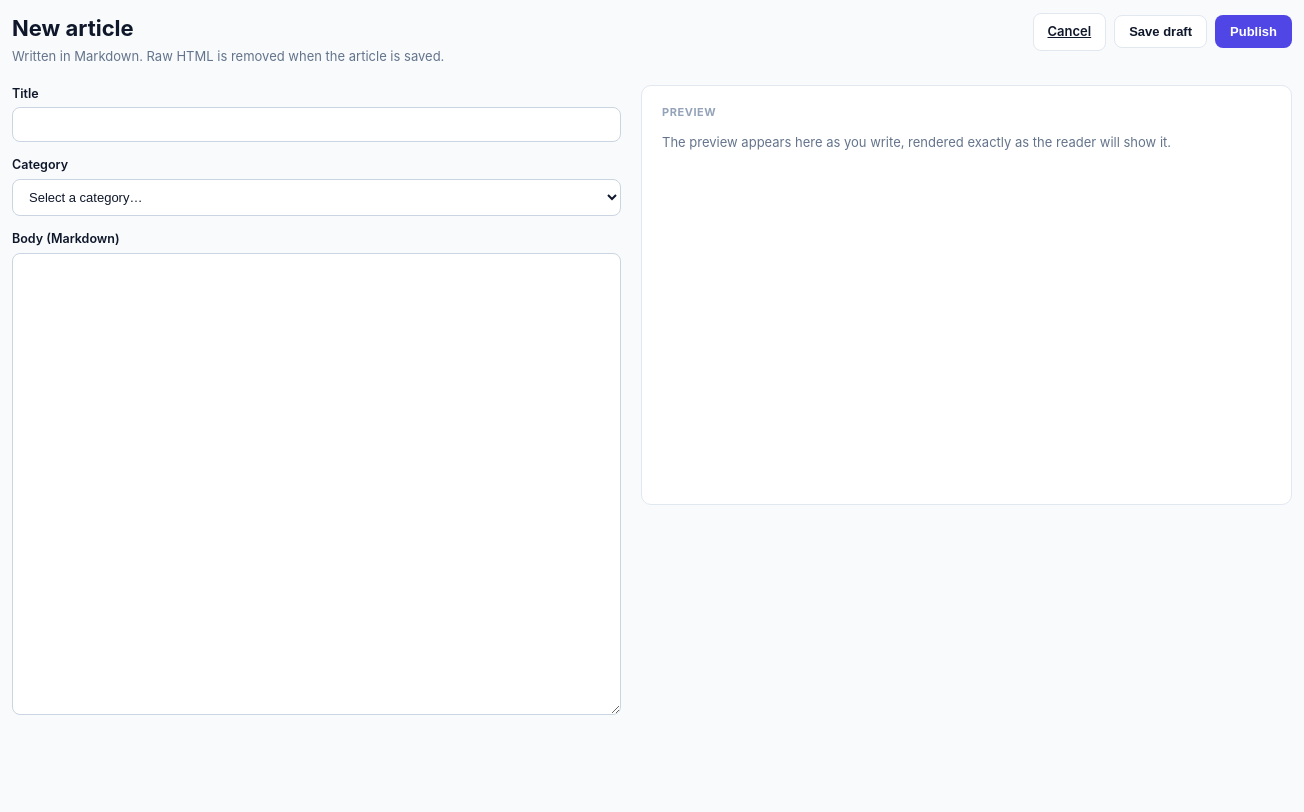
ArticleEditorPage › blocks Publish without a title
This screenshot has width=1304, height=812.
Type "A body." into the text box labelled "Body (Markdown)" at (316, 484), box [12,253,621,715]
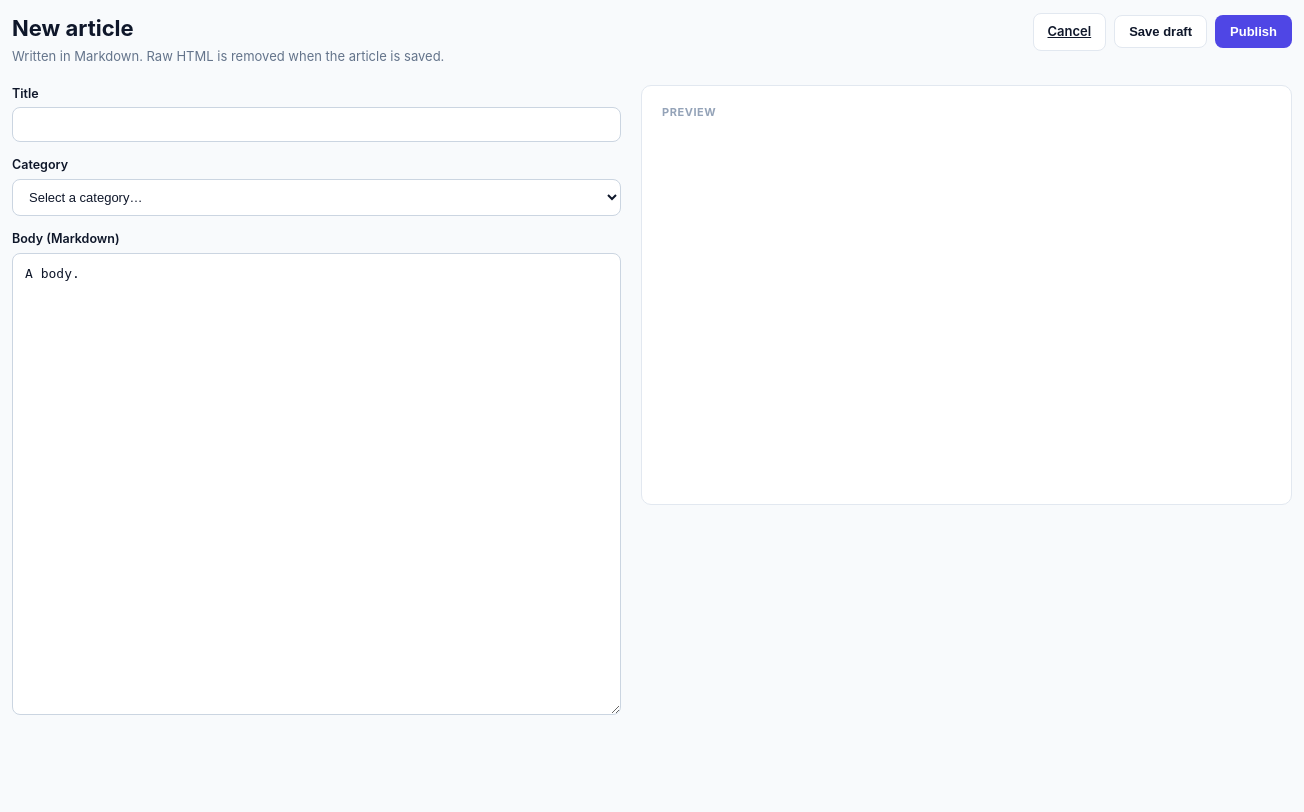
Select "Account & Access" in the dropdown labelled "Category" at (316, 198), box [12,179,621,216]
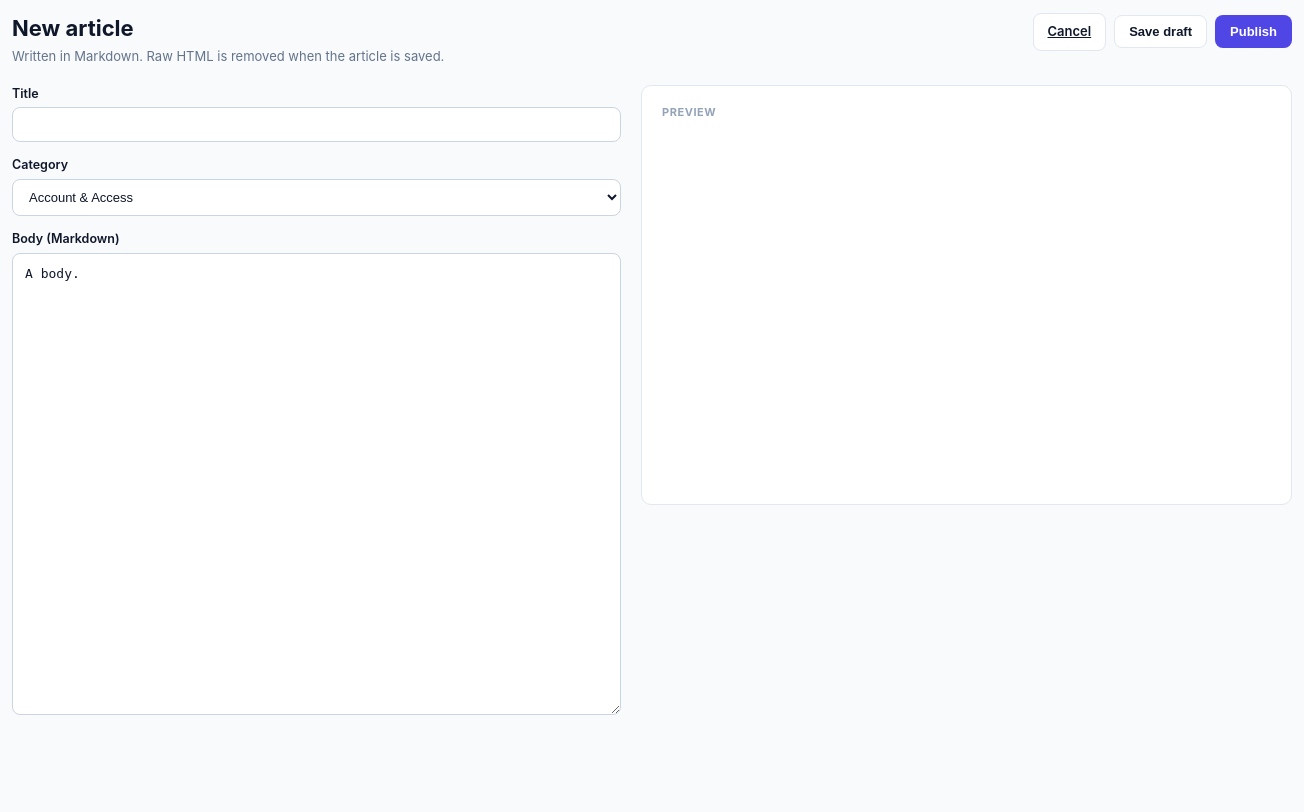
Click the button "Publish" at (1254, 32), box [1215,15,1292,48]
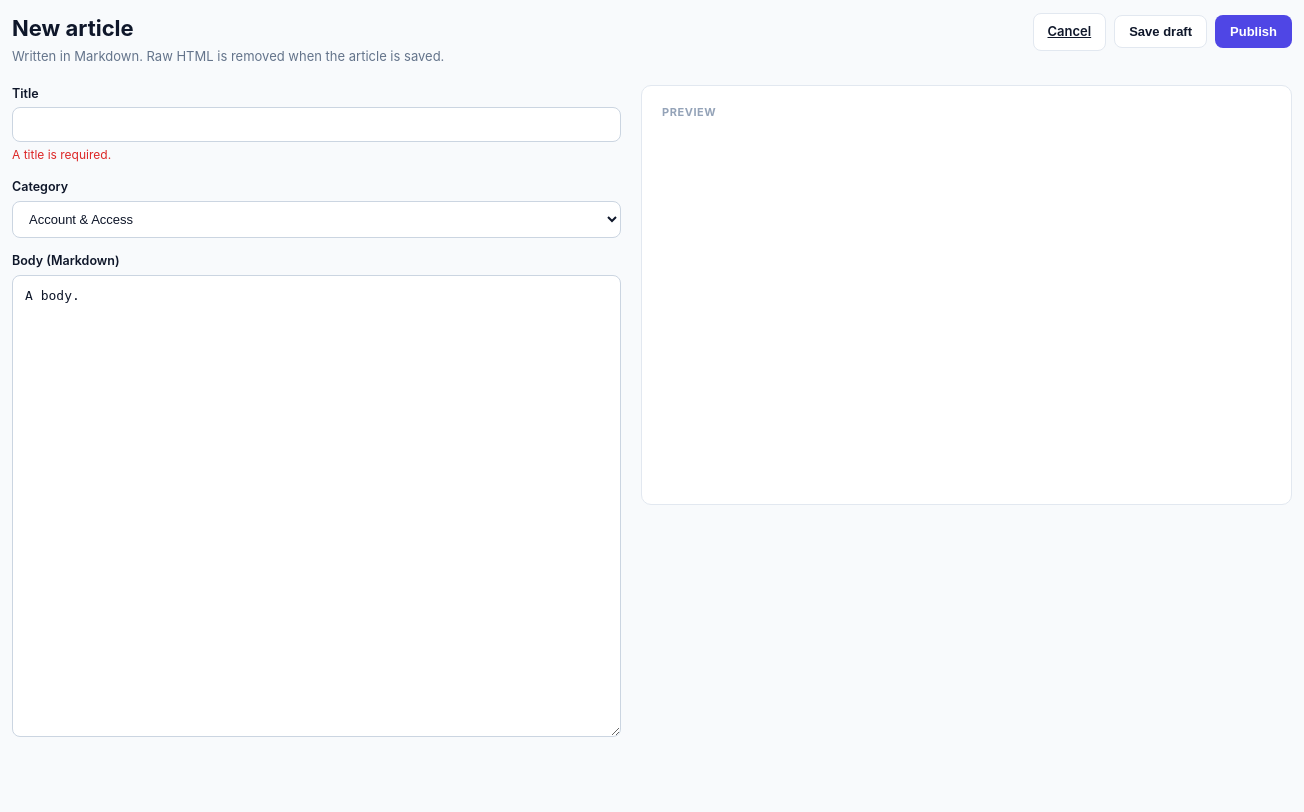
Expected: the text "A title is required." is shown, [12,147,111,162]
